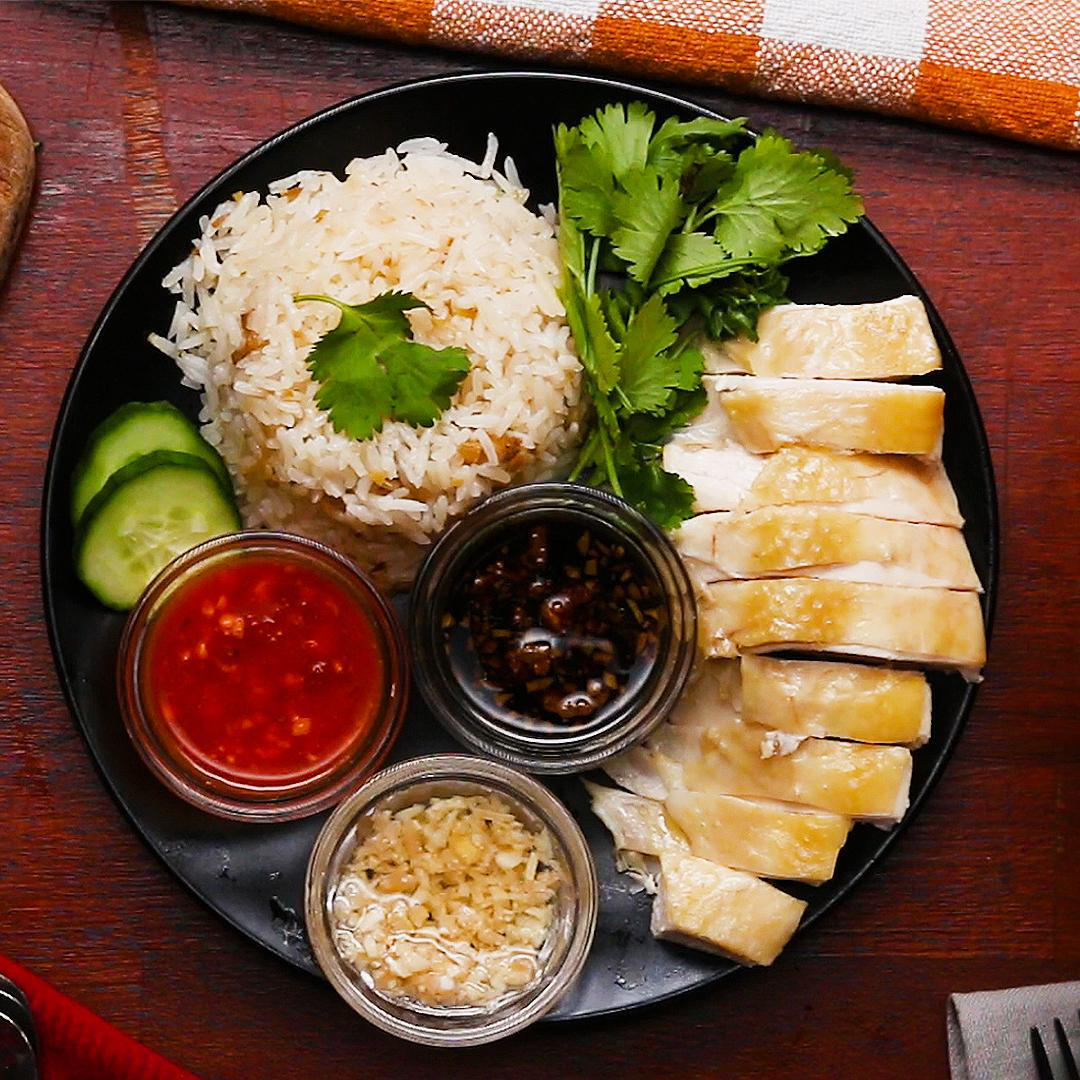Steamed Chicken Rice: (155, 136, 994, 978)
